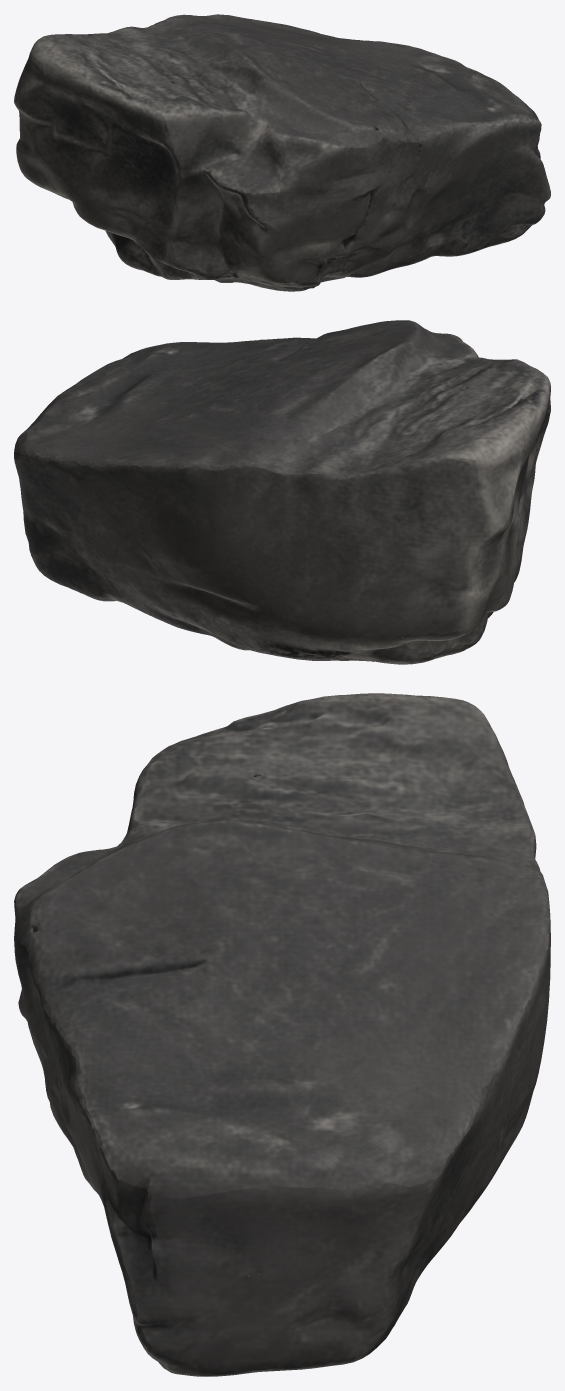
The picture shows the model from 3 angles, top to bottom: view 1: azimuth 30°, elevation 25°; view 2: azimuth 150°, elevation 25°; view 3: azimuth 270°, elevation 25°; orthographic projection. The views are drawn at different scales.
Visible parts, largest first — view 1: world; view 2: world; view 3: world.
Boxes of the visible parts, x1,y1,x2,y2 form: world: (14,14,550,291); world: (14,320,550,664); world: (14,693,550,1376).
Size of the model in its own units: 2.5 by 1.26 by 1.65.
1 material, 1 textured.
